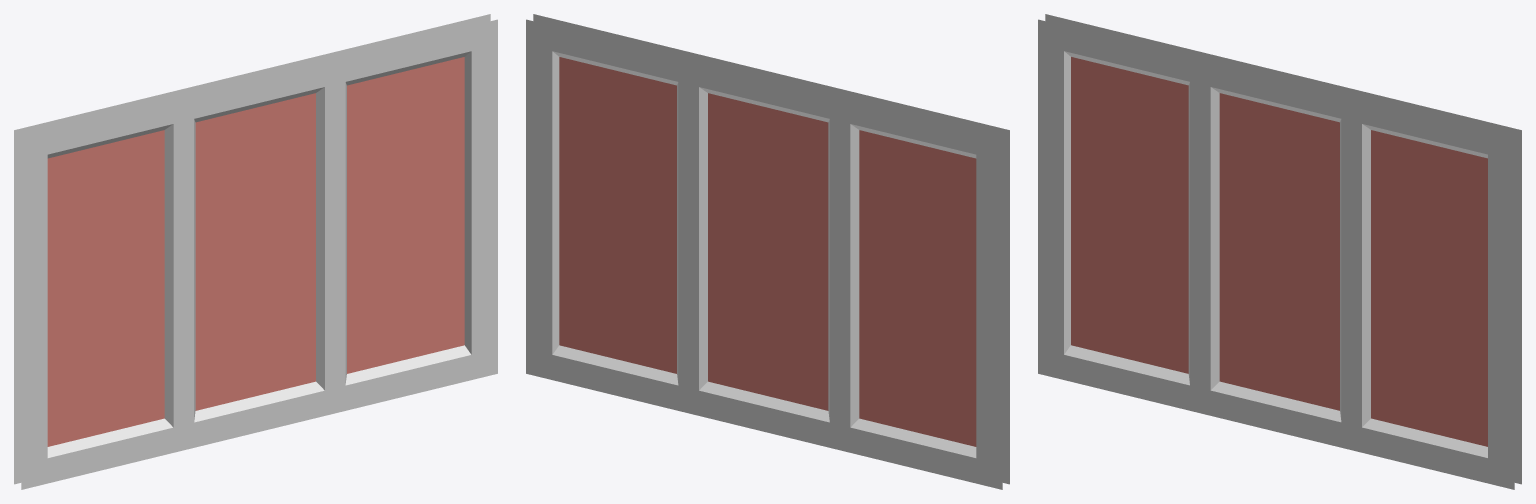
The model's file is Window.fbx.
3 views of the same model, side by side, from view 1: azimuth 30°, elevation 25°; view 2: azimuth 150°, elevation 25°; view 3: azimuth 330°, elevation 25° (orthographic).
Visible parts, largest first — view 1: Cube; view 2: Cube; view 3: Cube.
Boxes of the visible parts, left/top/right/bottom form: Cube: left=14, top=14, right=497, bottom=489; Cube: left=526, top=14, right=1009, bottom=489; Cube: left=1038, top=14, right=1521, bottom=489.
Bounding box in the file's own units: 658 × 467 × 17.87.
